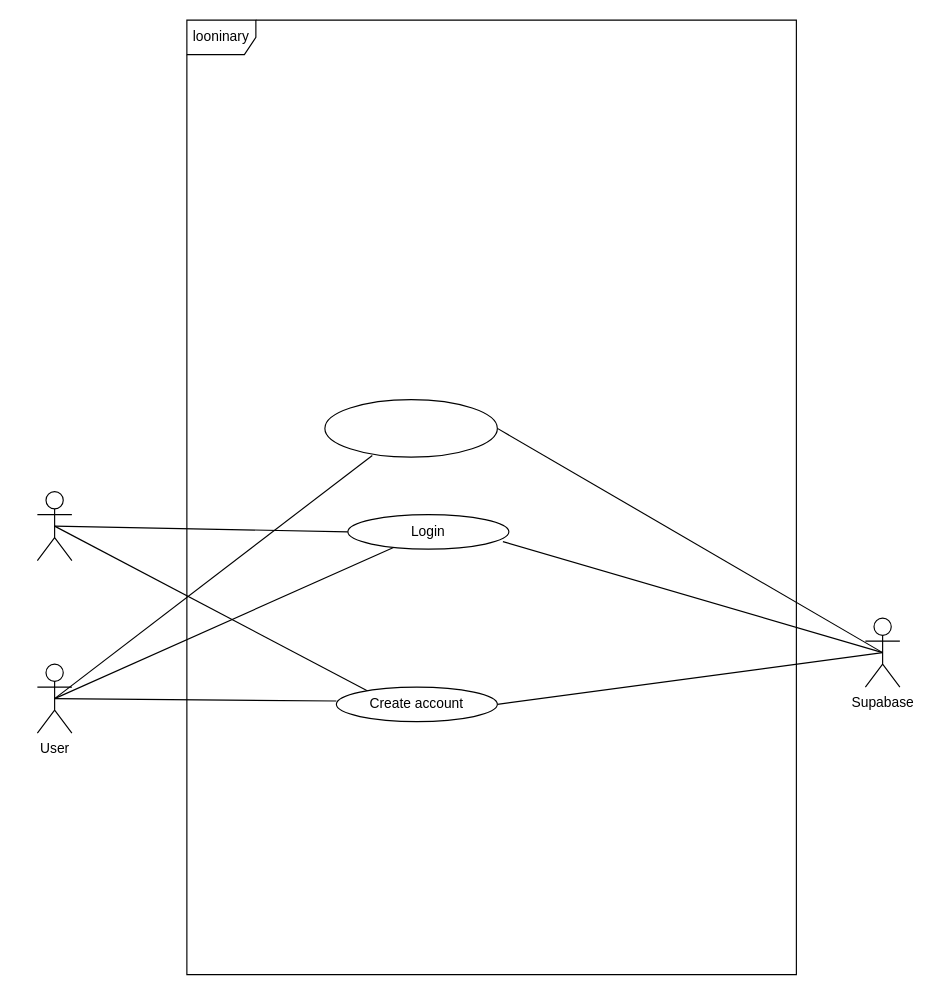
Image size: 934x995. Some labels were removed from this diagram. Here are the shapes that lost their labels. From the top down, the box of each, then its label:
(324, 398, 497, 457): Account management
(36, 490, 72, 561): Guest User
